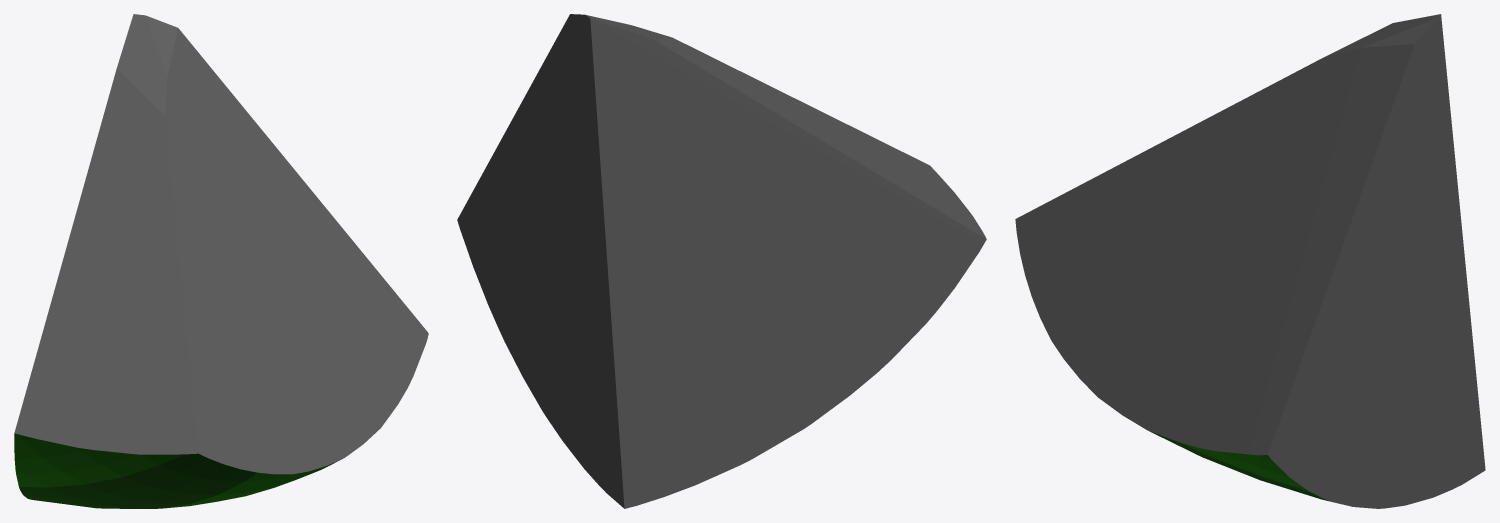
Rendered from Mortarmellon piece8.glb.
3 views of the same model, side by side, from view 1: azimuth 30°, elevation 25°; view 2: azimuth 150°, elevation 25°; view 3: azimuth 270°, elevation 25° (orthographic). The views are drawn at different scales.
Parts seen in each view (by area): view 1: Mortarmelon Body_cell.007; view 2: Mortarmelon Body_cell.007; view 3: Mortarmelon Body_cell.007.
Boxes of the visible parts, x1,y1,x2,y2 form: Mortarmelon Body_cell.007: (14,14,428,508); Mortarmelon Body_cell.007: (457,14,986,508); Mortarmelon Body_cell.007: (1015,14,1485,508).
Bounding box in the file's own units: 1.24 × 1.16 × 1.02.
